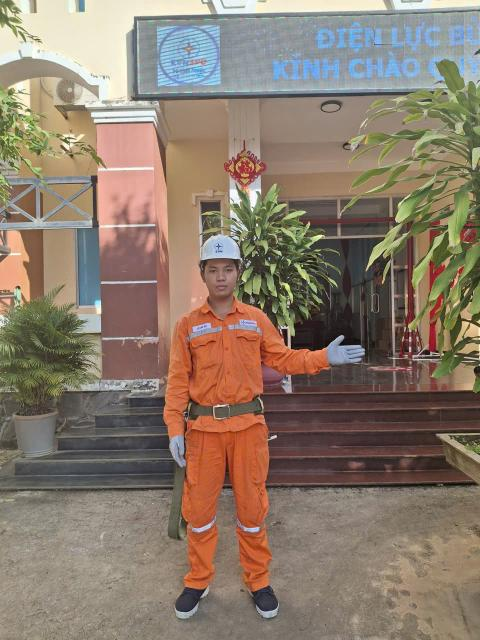gloves: (315, 324, 373, 372), (163, 431, 194, 472)
harness: (174, 391, 282, 425)
helmet: (189, 233, 242, 265)
shoes: (157, 568, 225, 622), (238, 574, 287, 623)
